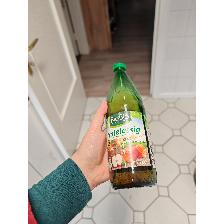Essig: (105, 63, 159, 191)
